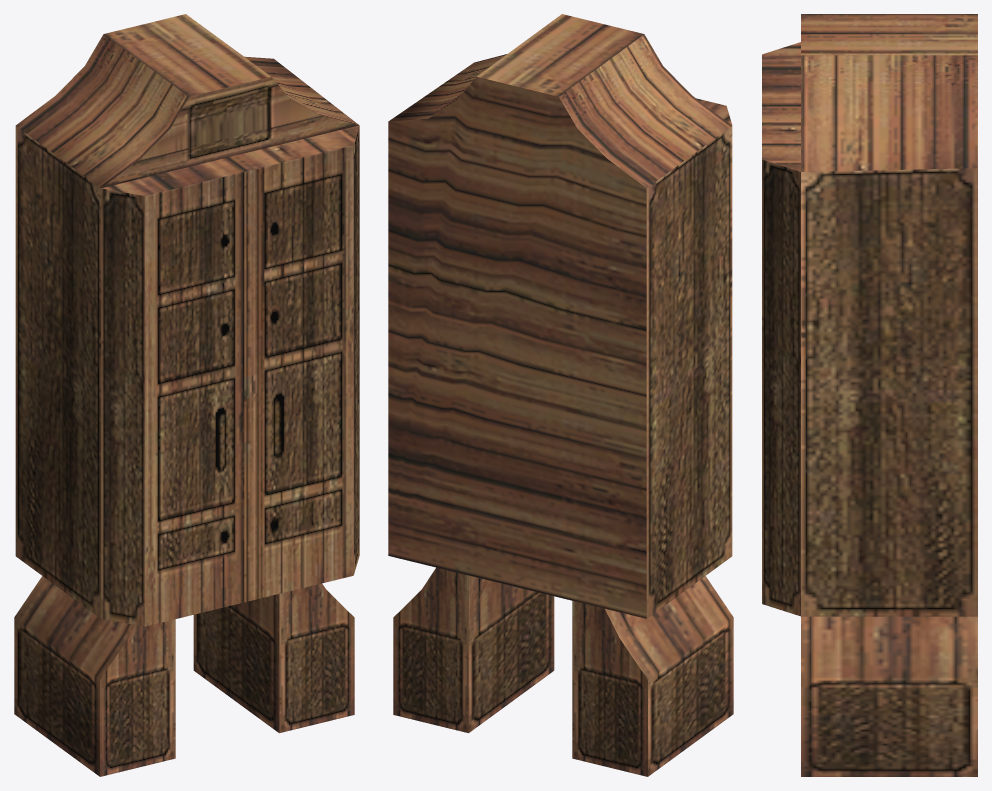
Rendered from frn_all_eleg_cabinet_s02_l1.fbx.
3 views of the same model, side by side, from view 1: azimuth 30°, elevation 25°; view 2: azimuth 150°, elevation 25°; view 3: azimuth 270°, elevation 25° (orthographic). The views are drawn at different scales.
Parts seen in each view (by area): view 1: mesh_node; view 2: mesh_node; view 3: mesh_node.
Boxes of the visible parts, box(x1,y1,x2,y2) form: mesh_node: box(14, 14, 359, 776); mesh_node: box(388, 14, 733, 776); mesh_node: box(762, 14, 977, 776).
Size of the model in its own units: 0.7423 by 1.8 by 0.5181.
1 material, 1 textured.
